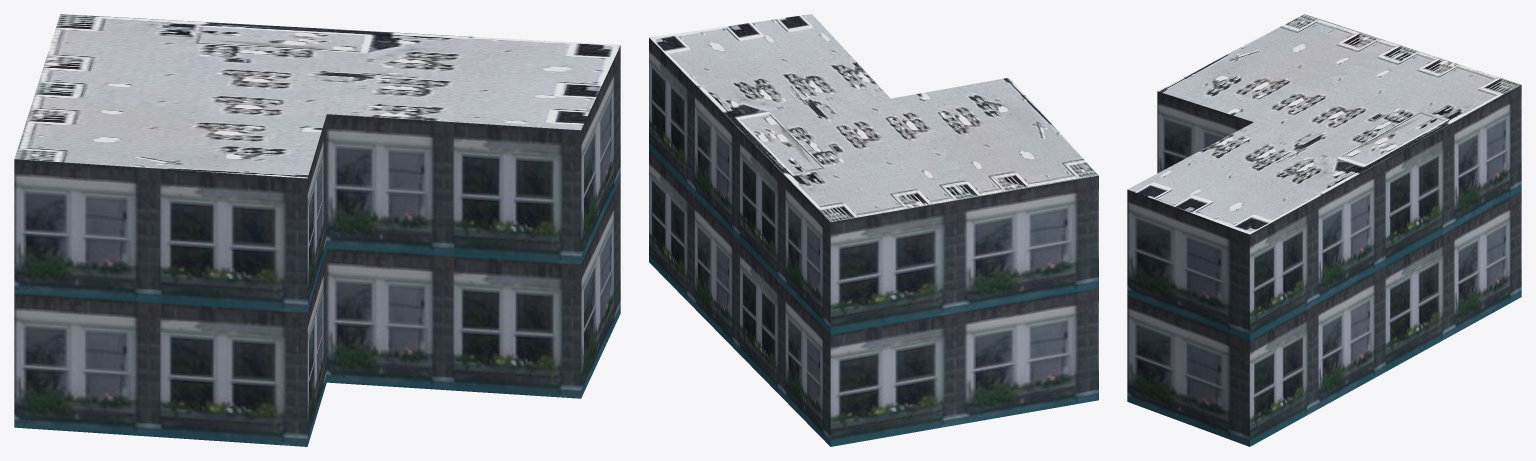
The model's file is ResTex__1061.fbx.
3 views of the same model, side by side, from view 1: azimuth 30°, elevation 25°; view 2: azimuth 150°, elevation 25°; view 3: azimuth 270°, elevation 25° (orthographic). The views are drawn at different scales.
Visible parts, largest first — view 1: CityEngineMaterial_11_m, CityEngineMaterial_m; view 2: CityEngineMaterial_11_m, CityEngineMaterial_m; view 3: CityEngineMaterial_11_m, CityEngineMaterial_m.
Boxes of the visible parts, <box> form: CityEngineMaterial_11_m: <box>14,46,620,446</box>; CityEngineMaterial_m: <box>14,14,620,178</box>; CityEngineMaterial_11_m: <box>649,38,1098,446</box>; CityEngineMaterial_m: <box>649,14,1098,222</box>; CityEngineMaterial_11_m: <box>1127,85,1521,446</box>; CityEngineMaterial_m: <box>1127,14,1520,234</box>.
Size of the model in its own units: 13.38 by 6 by 10.1.
Materials: 2 (2 with a texture image).
